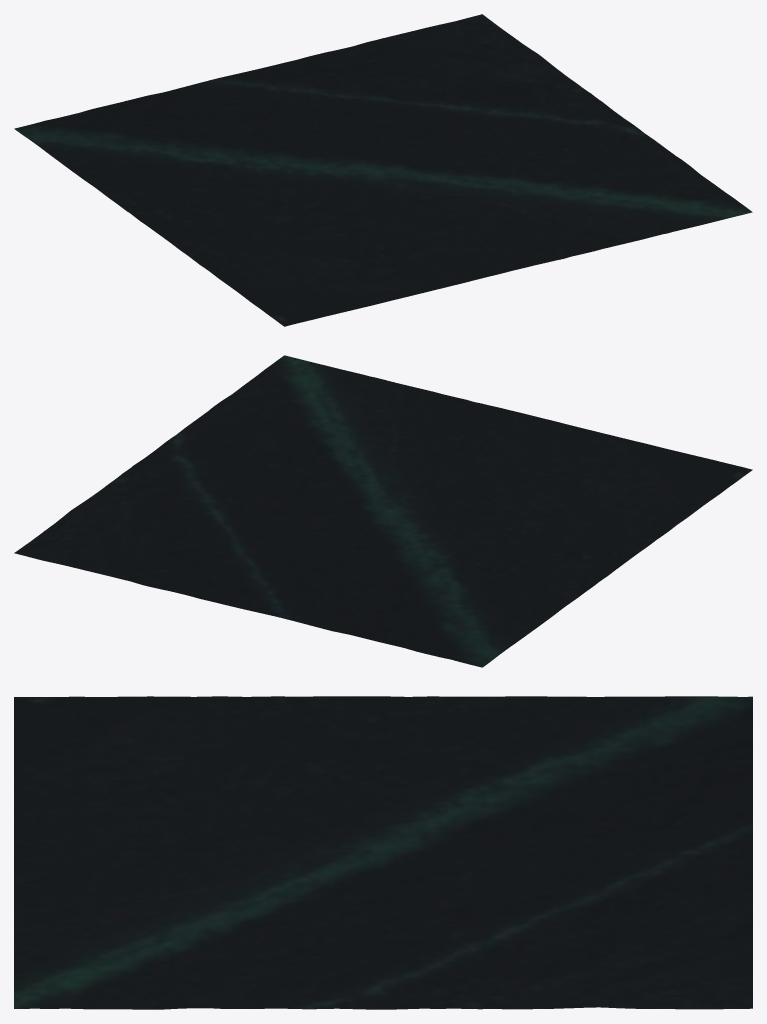
The picture shows the model from 3 angles, top to bottom: view 1: azimuth 30°, elevation 25°; view 2: azimuth 150°, elevation 25°; view 3: azimuth 270°, elevation 25°; orthographic projection. The views are drawn at different scales.
Bounding box in the file's own units: 104 × 0.4144 × 104.
3 materials, 3 textured.
